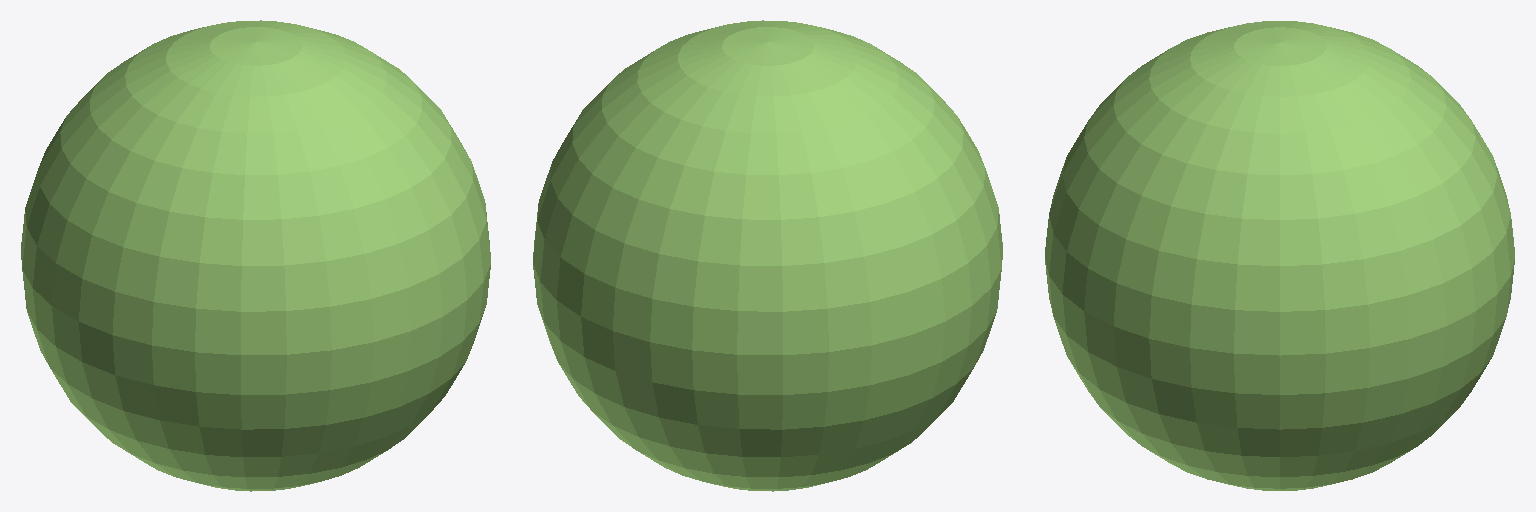
The robot description file, URDF, robot "sample":
<robot name="sample">
  <!-- links -->
  <link name="base">
    <inertial>
      <origin xyz="0 0 0" rpy="0 0 0"/>
      <mass value="0.005"/>
      <inertia ixx="5e-8"  ixy="0"  ixz="0" iyy="5e-8" iyz="0" izz="5e-8" />
    </inertial>
    <visual>
      <origin xyz="0 0 0" rpy="0 0 0" />
      <geometry>
        <sphere radius="0.008" />
      </geometry>
      <material name="green">
        <color rgba="0.659 0.839 0.514 1.0"/>
      </material>
    </visual>
    <collision>
      <origin xyz="0 0 0" rpy="0 0 0"/>
      <geometry>
        <sphere radius="0.008" />
      </geometry>
    </collision>
  </link>
</robot>

--- Render facts (derived) ---
Views: 3 orthographic renders of the robot side by side, from view 1: azimuth 30°, elevation 25°; view 2: azimuth 150°, elevation 25°; view 3: azimuth 270°, elevation 25°.
Robot: sample — 1 links, 0 joints (none); root link base; default pose: all joints at 0.
Links seen in each view (by area): view 1: base; view 2: base; view 3: base.
Boxes of the visible links, box(x1,y1,x2,y2) form: base: box(21, 20, 490, 491); base: box(533, 20, 1002, 491); base: box(1045, 21, 1514, 490).
Bounding box of the posed robot: 0.016 × 0.016 × 0.016 m (x, y, z).
Geometry: primitives only (box / cylinder / sphere), no mesh files.